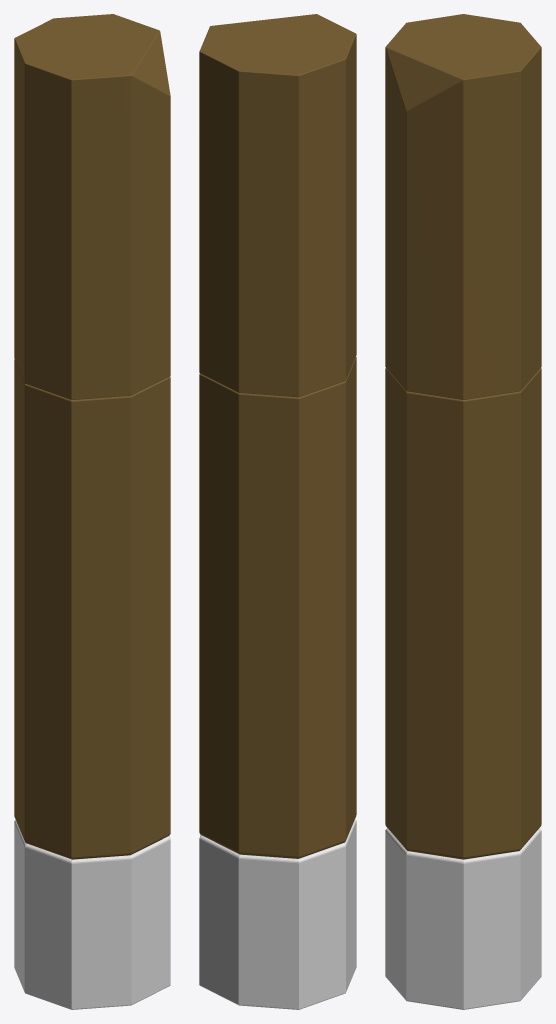
File: lipstick.fbx
The picture shows the model from 3 angles, left to right: view 1: azimuth 30°, elevation 25°; view 2: azimuth 150°, elevation 25°; view 3: azimuth 270°, elevation 25°; orthographic projection.
Parts seen in each view (by area): view 1: Body, Cap, Plane.006; view 2: Body, Cap, Plane.006; view 3: Body, Cap, Plane.006.
Part boxes in pixels (x1,y1,x2,y2): Body: (14,359,170,859); Cap: (14,14,170,399); Plane.006: (14,820,170,1009); Body: (199,357,356,858); Cap: (199,14,356,397); Plane.006: (199,819,356,1009); Body: (385,368,541,859); Cap: (385,14,541,399); Plane.006: (385,828,541,1009).
Size of the model in its own units: 2.05 by 13.46 by 2.05.
